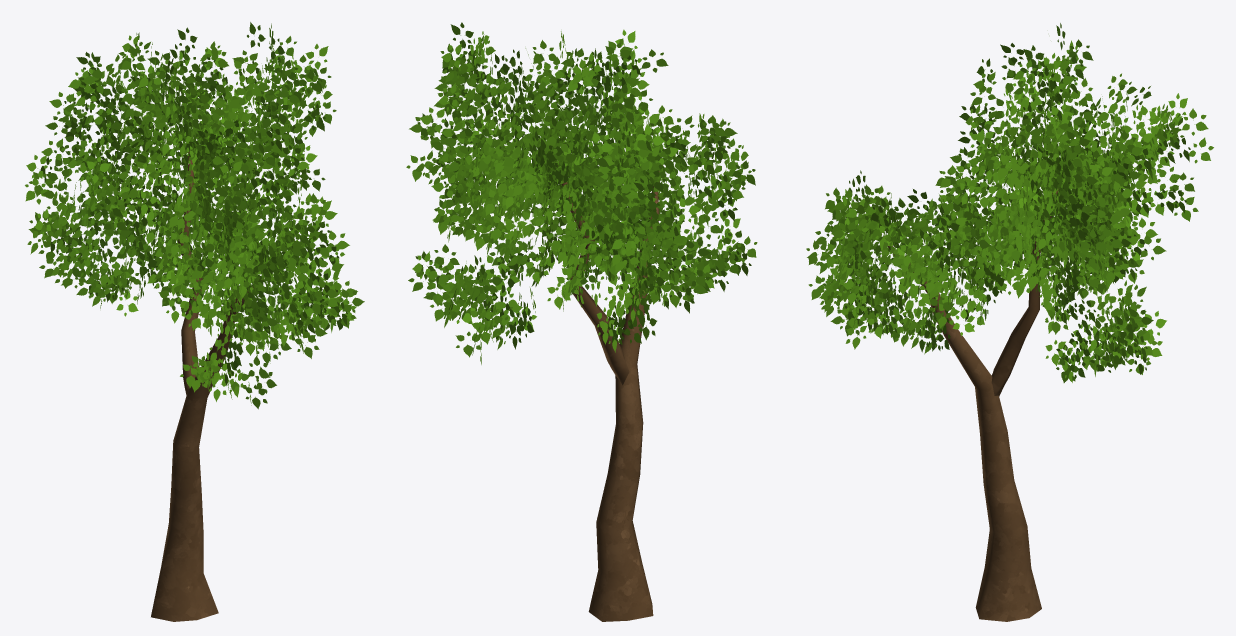
File: SM_Tree_04.fbx
3 renders of one model, left to right at view 1: azimuth 30°, elevation 25°; view 2: azimuth 150°, elevation 25°; view 3: azimuth 270°, elevation 25°, orthographic. The views are drawn at different scales.
Parts seen in each view (by area): view 1: SM_Tree_04; view 2: SM_Tree_04; view 3: SM_Tree_04.
Boxes of the visible parts, left/top/right/bottom form: SM_Tree_04: left=25, top=22, right=364, bottom=621; SM_Tree_04: left=406, top=22, right=757, bottom=621; SM_Tree_04: left=806, top=23, right=1213, bottom=621.
Bounding box in the file's own units: 223 × 269 × 403.
Materials: 2 (2 with a texture image).
